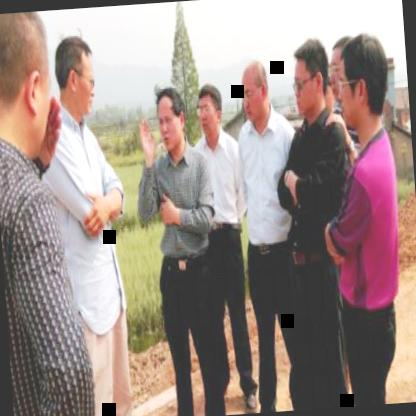head: (0, 10, 57, 163), (336, 30, 396, 140), (48, 30, 103, 122), (287, 34, 332, 124), (237, 52, 274, 132), (193, 77, 227, 144), (154, 83, 186, 153), (327, 35, 354, 112)
